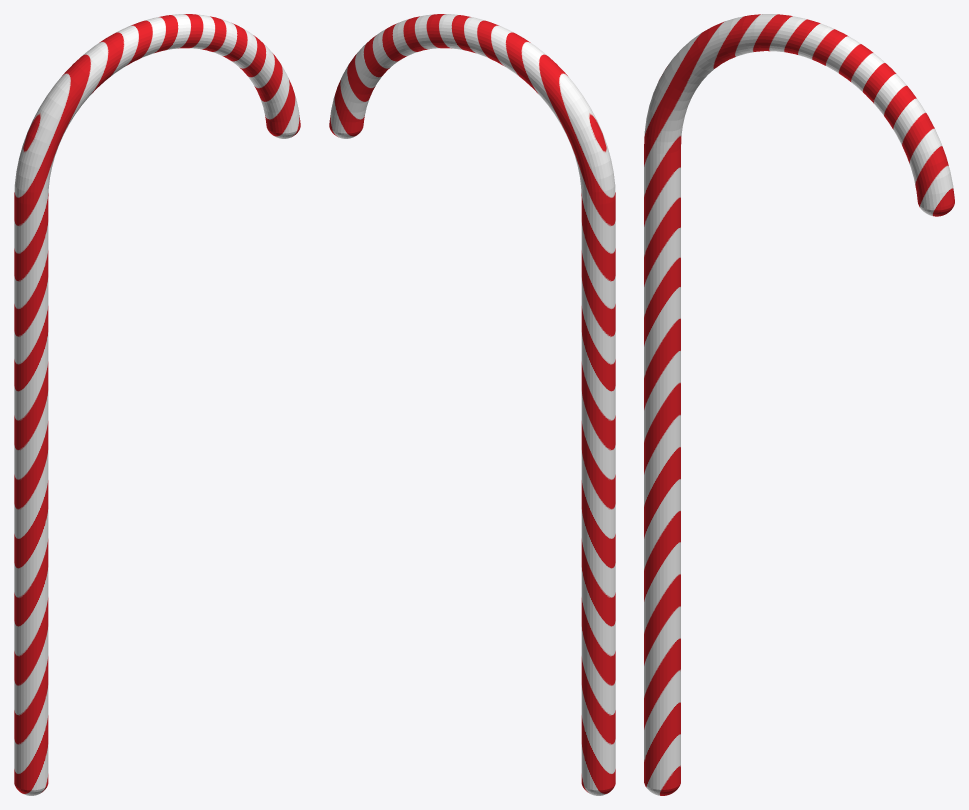
File: The Sugar Cane (Red).glb
3 views of the same model, side by side, from view 1: azimuth 30°, elevation 25°; view 2: azimuth 150°, elevation 25°; view 3: azimuth 330°, elevation 25° (orthographic). The views are drawn at different scales.
Parts seen in each view (by area): view 1: Cylinder; view 2: Cylinder; view 3: Cylinder.
Part boxes in pixels (x1=…): Cylinder: x1=14, y1=14, x2=300, y2=795; Cylinder: x1=329, y1=14, x2=615, y2=795; Cylinder: x1=644, y1=14, x2=954, y2=795.
Size of the model in its own units: 2.23 by 5.63 by 0.2349.
1 material, 1 textured.
